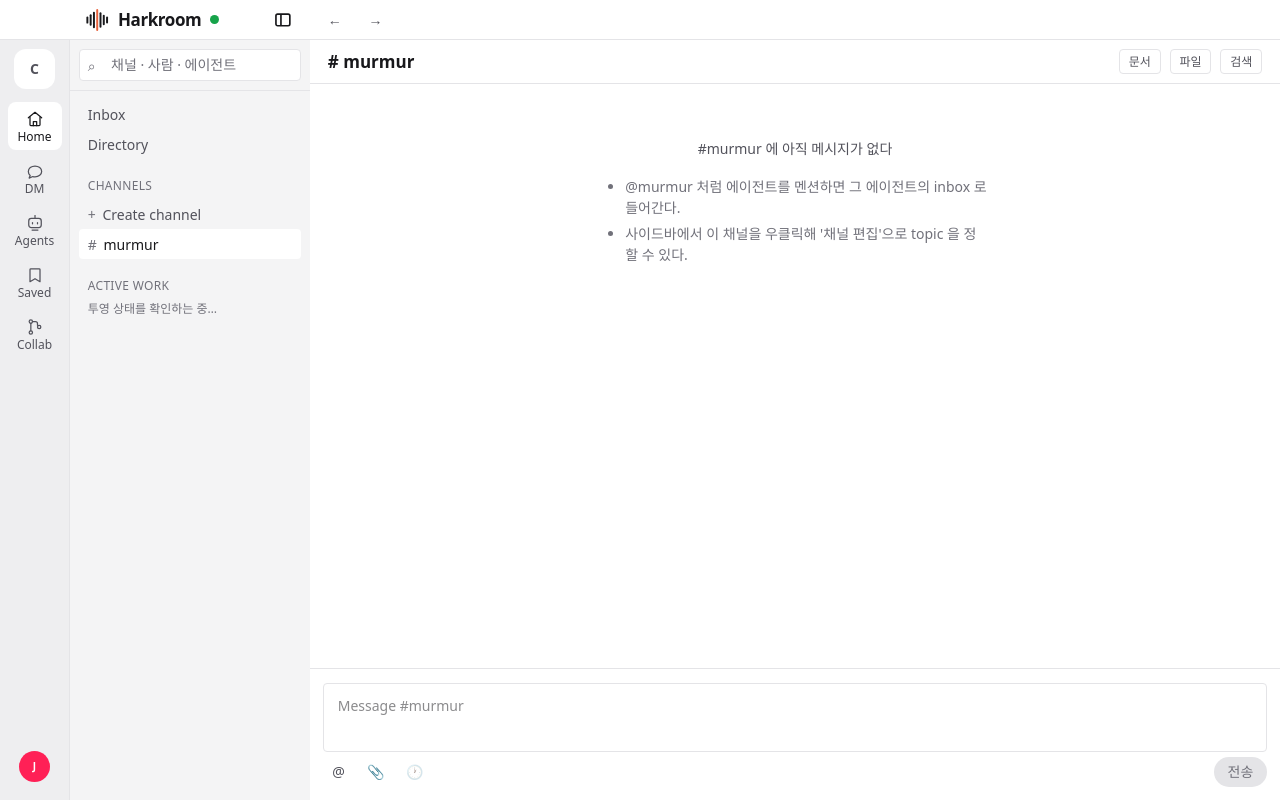
Test: 배선 — 도는 턴이 없어도, 몰라도 대기는 보인다 › 도는 턴 0개인 관제탑에도 대기 줄이 선다
Click the button with test id "rail-agents": (34, 230) [8,206,62,254]
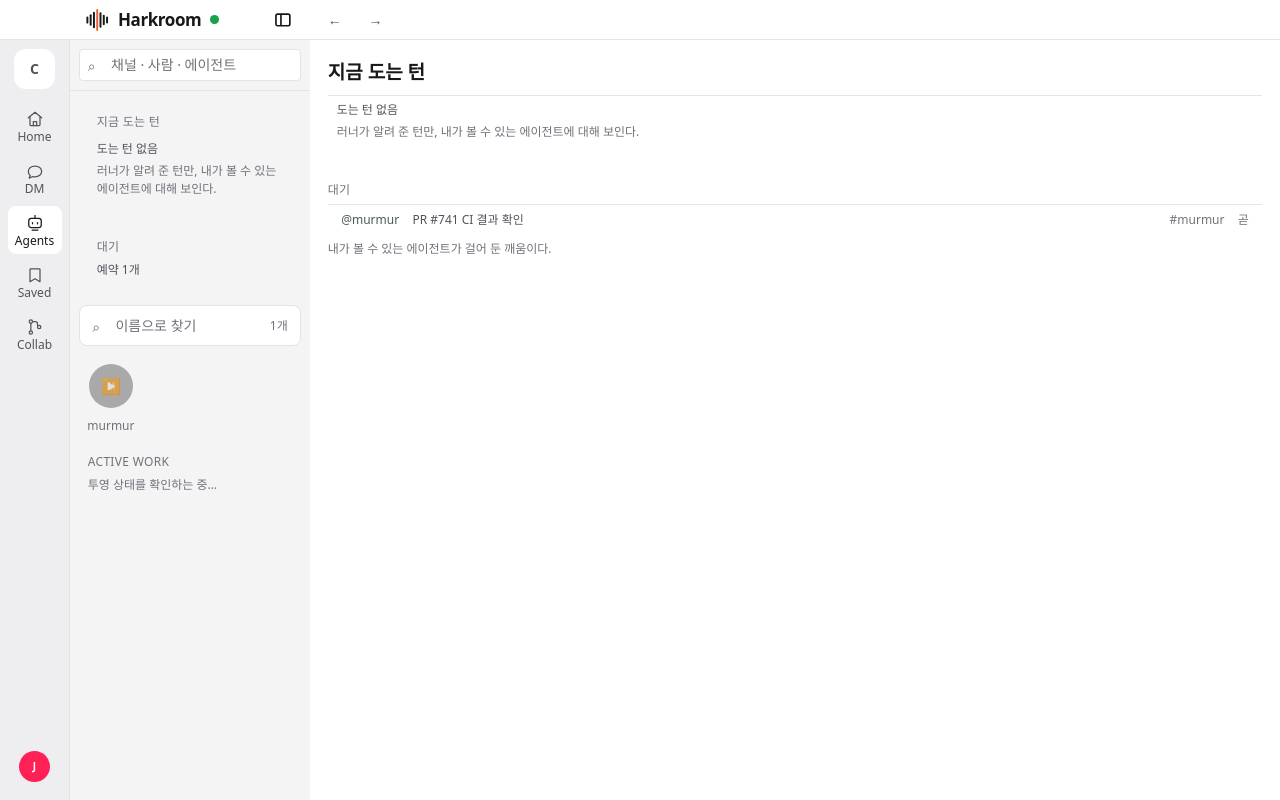
Now the list item with test id "agent-wait-w1" is shown, box [328,204,1262,236]
Now the 1st text with test id "agent-turns-none" is shown, box [337,101,398,118]
Now the text with test id "agent-waits-count" shows "1", box [97,261,140,278]
